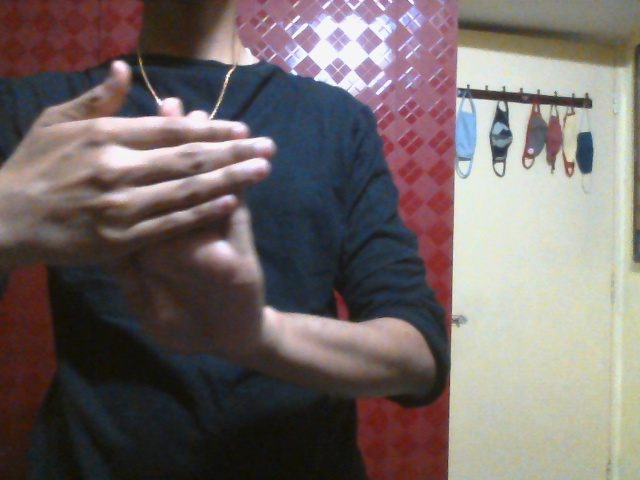H: (47, 59, 278, 360)
